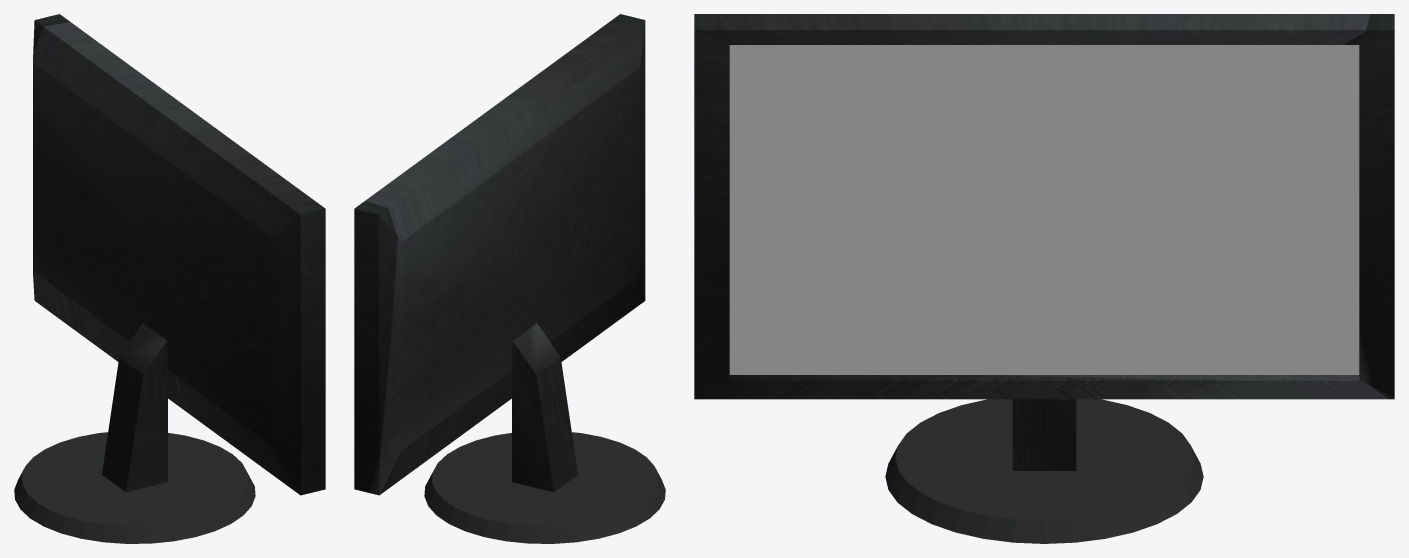
Rendered from monitor.obj.
3 views of the same model, side by side, from view 1: azimuth 30°, elevation 25°; view 2: azimuth 150°, elevation 25°; view 3: azimuth 270°, elevation 25° (orthographic). The views are drawn at different scales.
Parts seen in each view (by area): view 1: Monitor_Circle.001; view 2: Monitor_Circle.001; view 3: Pantalla_Circle.002, Monitor_Circle.001.
Part boxes in pixels (x1=…): Monitor_Circle.001: x1=14, y1=14, x2=325, y2=543; Monitor_Circle.001: x1=354, y1=14, x2=665, y2=543; Pantalla_Circle.002: x1=729, y1=45, x2=1359, y2=374; Monitor_Circle.001: x1=694, y1=14, x2=1394, y2=543.
Bounding box in the file's own units: 0.5 × 0.8382 × 1.1.
Materials: 2 (1 with a texture image).
